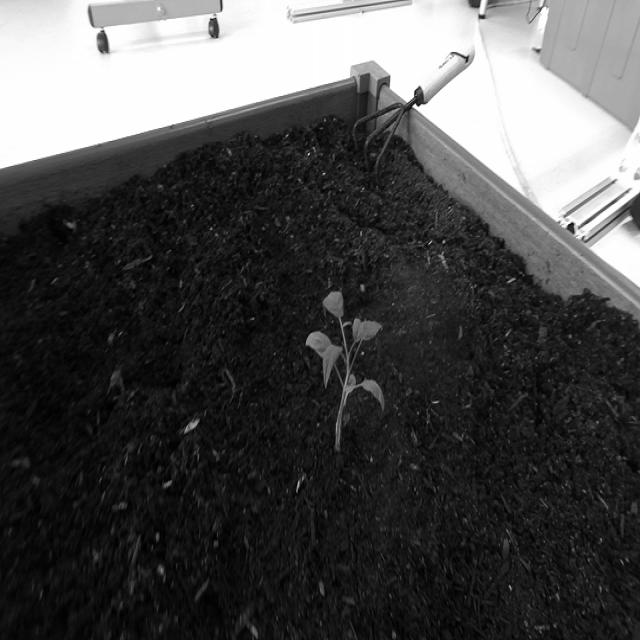Healthy: (302, 284, 390, 462)
